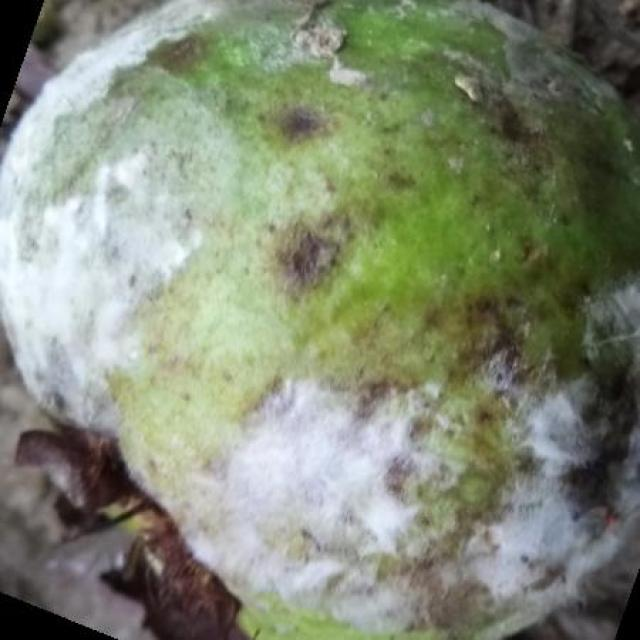Phytopthora: (0, 0, 640, 638)
